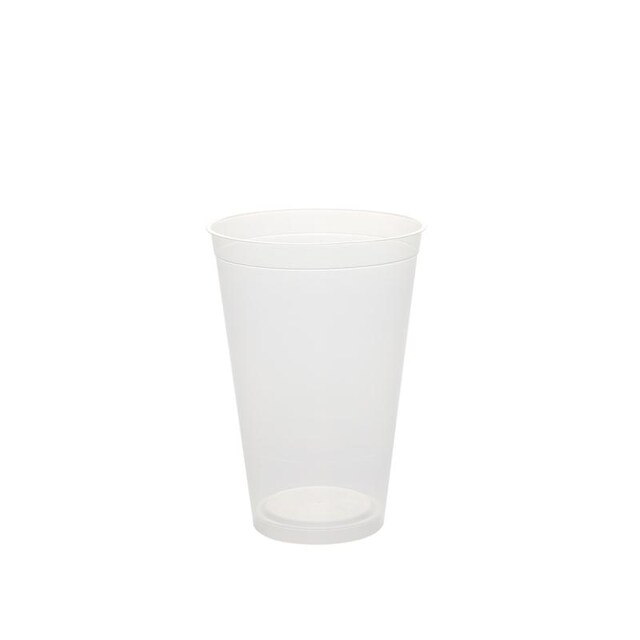plastic_glass: (204, 198, 428, 554)
